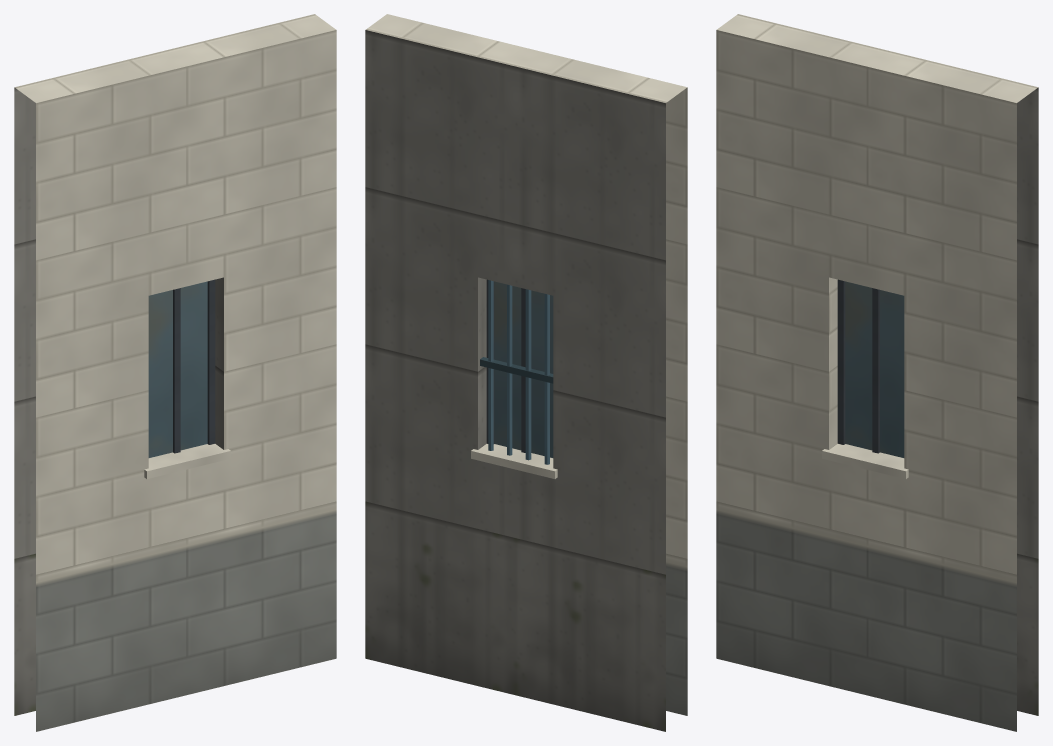
The model's file is wall_cell_window.fbx.
3 views of the same model, side by side, from view 1: azimuth 30°, elevation 25°; view 2: azimuth 150°, elevation 25°; view 3: azimuth 330°, elevation 25° (orthographic).
Parts seen in each view (by area): view 1: wall_cell_window; view 2: wall_cell_window; view 3: wall_cell_window.
Part boxes in pixels (<box>): wall_cell_window: <box>14,14,336,731</box>; wall_cell_window: <box>365,14,687,731</box>; wall_cell_window: <box>716,14,1038,731</box>.
Bounding box in the file's own units: 2 × 4 × 0.31.
1 material, 1 textured.
